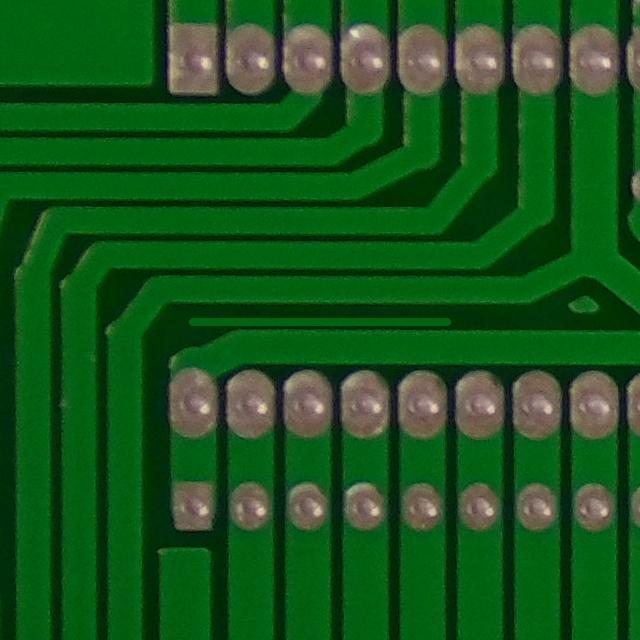spurious_copper: (179, 307, 462, 334)
